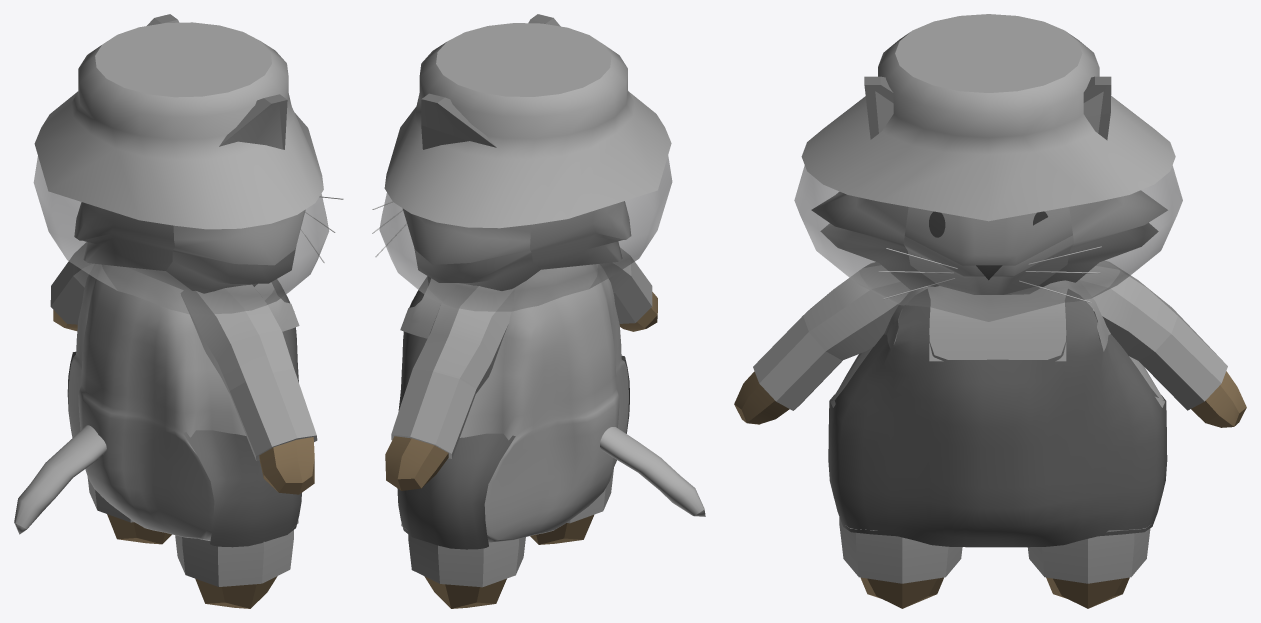
File: BeeKeeper.fbx
3 views of the same model, side by side, from view 1: azimuth 30°, elevation 25°; view 2: azimuth 150°, elevation 25°; view 3: azimuth 270°, elevation 25° (orthographic). The views are drawn at different scales.
Visible parts, largest first — view 1: pCylinder3, pCube1, pCylinder4, Head, Arm3, leg3, pCylinder2, Arm5, leg4; view 2: pCylinder3, pCube1, pCylinder4, Head, Arm5, leg4, pCylinder2, Arm3, leg3; view 3: pCube1, pCylinder3, pCylinder4, Head, Arm3, Arm5, leg3, leg4.
Part boxes in pixels (x1=…): pCylinder3: x1=34, y1=22, x2=323, y2=229; pCube1: x1=67, y1=264, x2=301, y2=547; pCylinder4: x1=33, y1=157, x2=328, y2=314; Head: x1=74, y1=14, x2=305, y2=293; Arm3: x1=180, y1=284, x2=317, y2=494; leg3: x1=175, y1=530, x2=293, y2=608; pCylinder2: x1=14, y1=425, x2=106, y2=534; Arm5: x1=50, y1=242, x2=94, y2=330; leg4: x1=87, y1=477, x2=171, y2=544; pCylinder3: x1=384, y1=23, x2=671, y2=228; pCube1: x1=397, y1=264, x2=629, y2=549; pCylinder4: x1=379, y1=155, x2=672, y2=311; Head: x1=403, y1=14, x2=631, y2=290; Arm5: x1=385, y1=285, x2=514, y2=490; leg4: x1=408, y1=534, x2=525, y2=608; pCylinder2: x1=600, y1=427, x2=705, y2=516; Arm3: x1=600, y1=248, x2=657, y2=331; leg3: x1=530, y1=469, x2=613, y2=544; pCube1: x1=828, y1=280, x2=1167, y2=547; pCylinder3: x1=801, y1=14, x2=1175, y2=221; pCylinder4: x1=794, y1=165, x2=1182, y2=321; Head: x1=811, y1=76, x2=1167, y2=294; Arm3: x1=734, y1=262, x2=910, y2=424; Arm5: x1=1079, y1=261, x2=1246, y2=427; leg3: x1=839, y1=517, x2=962, y2=608; leg4: x1=1027, y1=528, x2=1150, y2=608.
Bounding box in the file's own units: 163 × 267 × 226.
